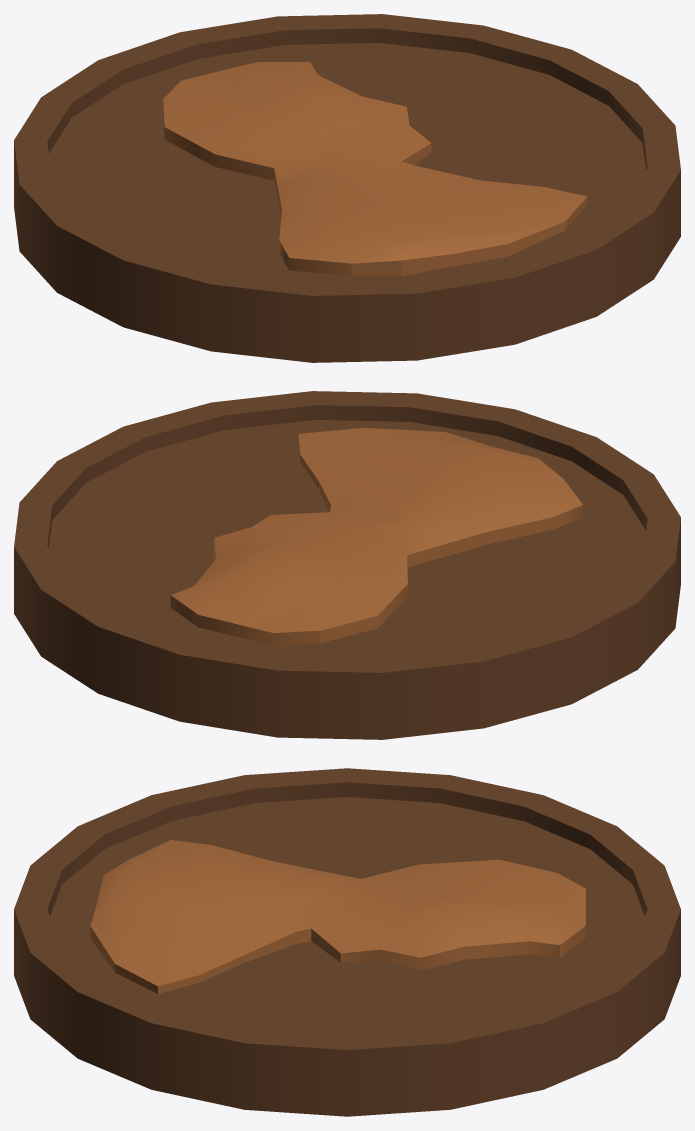
The model's file is Penny.fbx.
3 views of the same model, one above another, from view 1: azimuth 30°, elevation 25°; view 2: azimuth 150°, elevation 25°; view 3: azimuth 270°, elevation 25° (orthographic).
Visible parts, largest first — view 1: pCylinder6; view 2: pCylinder6; view 3: pCylinder6.
Boxes of the visible parts, x1=… form: pCylinder6: x1=14, y1=14, x2=680, y2=362; pCylinder6: x1=14, y1=391, x2=680, y2=739; pCylinder6: x1=14, y1=768, x2=680, y2=1116.
Bounding box in the file's own units: 0.2254 × 0.0297 × 0.2254.
